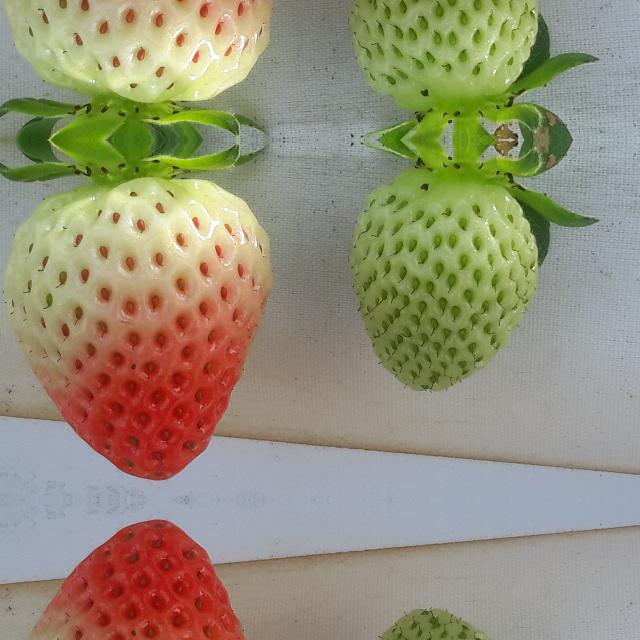Health_25: (350, 170, 536, 390), (350, 0, 536, 110)
Health_75: (7, 175, 270, 480), (6, 519, 269, 640), (6, 0, 269, 104)
